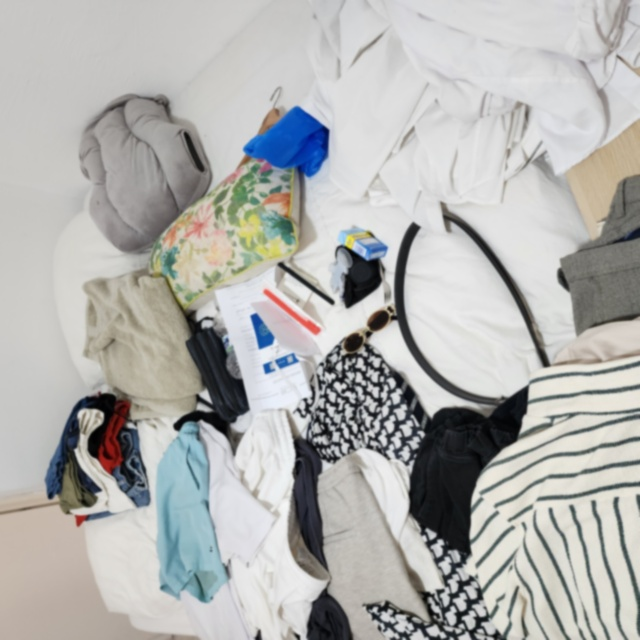glasses: (334, 302, 408, 356)
